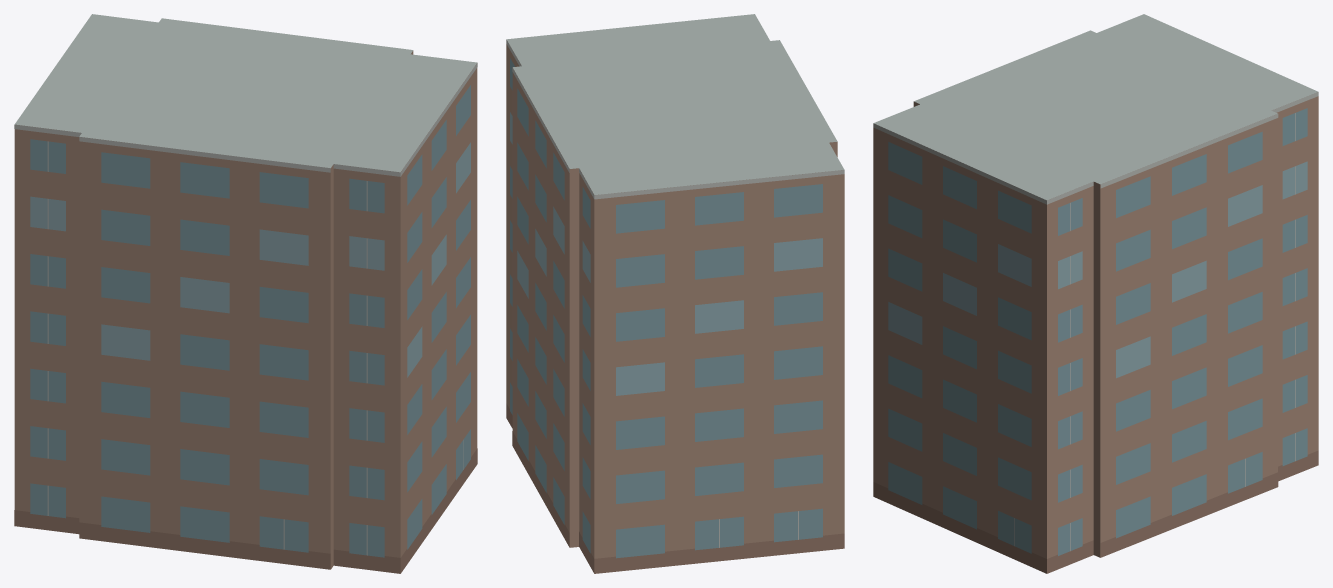
Rendered from survey-upis-33038232.glb.
3 renders of one model, left to right at view 1: azimuth 30°, elevation 25°; view 2: azimuth 150°, elevation 25°; view 3: azimuth 270°, elevation 25°, orthographic. The views are drawn at different scales.
Visible parts, largest first — view 1: survey-upis-33038232.tmp; view 2: survey-upis-33038232.tmp; view 3: survey-upis-33038232.tmp.
Part boxes in pixels (x1,y1,x2,y2): survey-upis-33038232.tmp: (14,14,477,573); survey-upis-33038232.tmp: (506,14,844,573); survey-upis-33038232.tmp: (873,14,1318,573).
Size of the model in its own units: 22.91 by 21.4 by 23.13.
